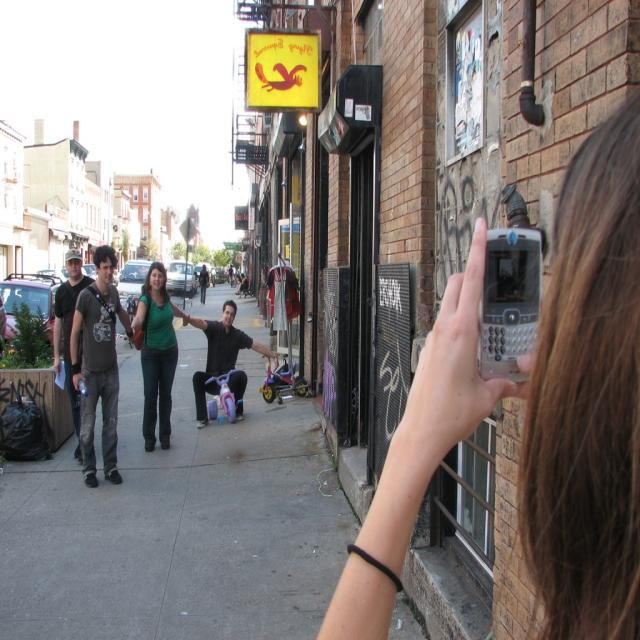Mobile-phone: (480, 227, 542, 386)
